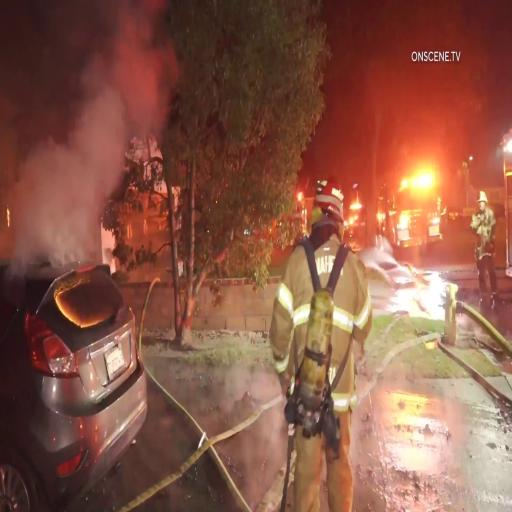smoke: (5, 5, 157, 130), (0, 130, 119, 266)
